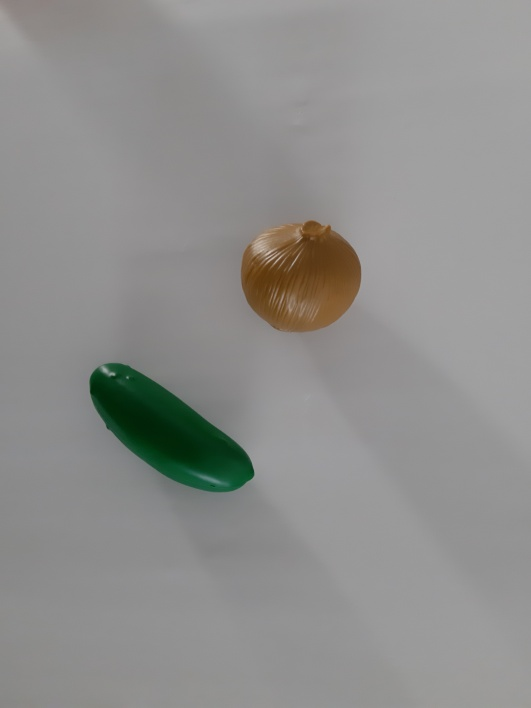cucumber: (73, 333, 266, 517)
onion: (216, 204, 398, 350)
